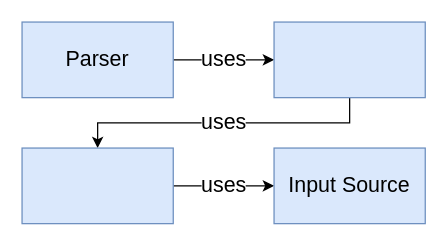
The diagram is 447 pixels wide and 246 high, and some of its shapes have lost their labels. Here are the shapes that lost their labels. From the top down, the centre of each, then its label:
At (x=349, y=59): "Token stream".
At (x=97, y=185): "Lexer".
